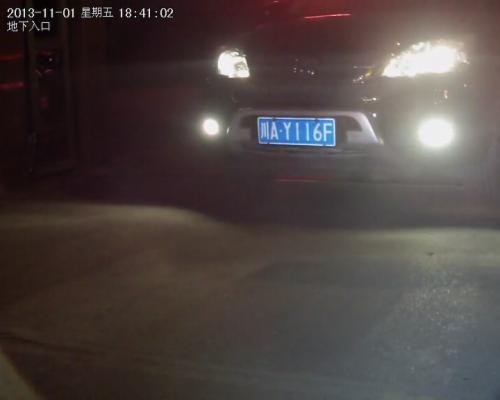Carplate: (254, 113, 340, 149)
